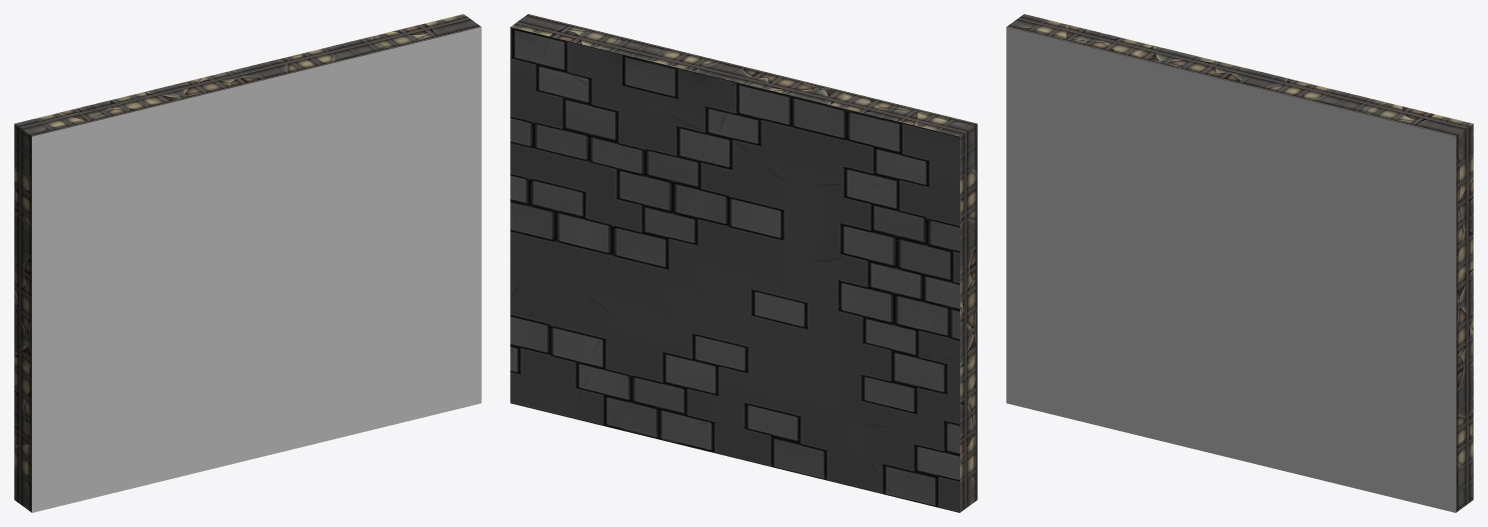
The model's file is Wall01.fbx.
3 renders of one model, left to right at view 1: azimuth 30°, elevation 25°; view 2: azimuth 150°, elevation 25°; view 3: azimuth 330°, elevation 25°, orthographic.
Parts seen in each view (by area): view 1: Wall01, Wall01.001_cell_Both.071, Wall01.001_cell_Both.069, Wall01.001_cell_Both.004, Wall01.001_cell_Both.074, Wall01.001_cell_Both.063, Wall01.001_cell_Both.059, Wall01.001_cell_Both.056, Wall01.001_cell_Both.064, Wall01.001_cell_Both.067, Wall01.001_cell_Both.051, Wall01.001_cell_Both.023 (+41 smaller); view 2: Wall01, Wall01.001_cell_Interior, Wall01.001_cell_Both.014, Wall01.001_cell_Both.056, Wall01.001_cell_Both.041, Wall01.001_cell_Both.048, Wall01.001_cell_Both.045, Wall01.001_cell_Both.069, Wall01.001_cell_Both.049, Wall01.001_cell_Both.001, Wall01.001_cell_Both.042, Wall01.001_cell_Both.021 (+36 smaller); view 3: Wall01, Wall01.001_cell_Both.014, Wall01.001_cell_Both.059, Wall01.001_cell_Both.069, Wall01.001_cell_Both.022, Wall01.001_cell_Both.001, Wall01.001_cell_Both.012, Wall01.001_cell_Both.049, Wall01.001_cell_Both.056, Wall01.001_cell_Both.065, Wall01.001_cell_Both.003, Wall01.001_cell_Both.048 (+41 smaller).
Boxes of the visible parts, x1,y1,x2,y2 form: Wall01: (14,16,481,512); Wall01.001_cell_Both.071: (165,245,262,346); Wall01.001_cell_Both.069: (103,162,210,264); Wall01.001_cell_Both.004: (59,334,131,440); Wall01.001_cell_Both.074: (14,193,102,276); Wall01.001_cell_Both.063: (254,264,333,340); Wall01.001_cell_Both.059: (343,167,420,278); Wall01.001_cell_Both.056: (66,123,137,217); Wall01.001_cell_Both.064: (305,307,385,375); Wall01.001_cell_Both.067: (204,285,291,361); Wall01.001_cell_Both.051: (164,346,229,415); Wall01.001_cell_Both.023: (313,39,383,127); Wall01: (510,14,977,512); Wall01.001_cell_Interior: (838,237,916,340); Wall01.001_cell_Both.014: (765,88,864,162); Wall01.001_cell_Both.056: (848,113,924,222); Wall01.001_cell_Both.041: (586,255,663,331); Wall01.001_cell_Both.048: (695,182,777,255); Wall01.001_cell_Both.045: (641,221,727,314); Wall01.001_cell_Both.069: (793,161,880,259); Wall01.001_cell_Both.049: (717,112,802,202); Wall01.001_cell_Both.001: (605,130,694,225); Wall01.001_cell_Both.042: (517,183,608,281); Wall01.001_cell_Both.021: (847,448,913,501); Wall01: (1006,14,1473,512); Wall01.001_cell_Both.014: (1094,51,1204,134); Wall01.001_cell_Both.059: (1316,235,1400,355); Wall01.001_cell_Both.069: (1078,130,1182,214); Wall01.001_cell_Both.022: (1202,68,1300,140); Wall01.001_cell_Both.001: (1291,167,1366,263); Wall01.001_cell_Both.012: (1370,136,1438,220); Wall01.001_cell_Both.049: (1175,110,1238,181); Wall01.001_cell_Both.056: (1044,37,1112,142); Wall01.001_cell_Both.065: (1235,139,1309,218); Wall01.001_cell_Both.003: (1411,162,1473,249); Wall01.001_cell_Both.048: (1195,180,1259,258).
Bounding box in the file's own units: 350 × 280 × 24.
